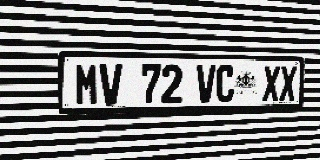2: (162, 65, 182, 104)
7: (140, 64, 161, 104)
C: (216, 65, 235, 102)
M: (75, 63, 99, 106)
V: (99, 64, 122, 105), (196, 65, 216, 103)
X: (262, 66, 280, 101), (279, 66, 297, 101)
